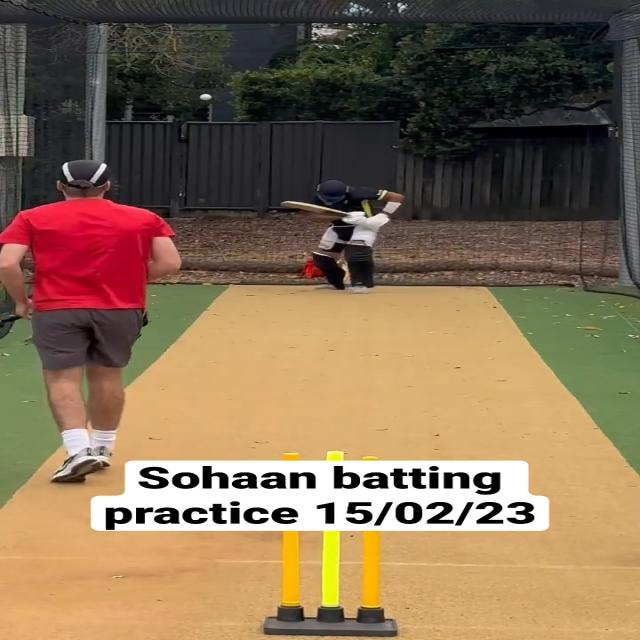ball: (199, 93, 213, 101)
stump: (270, 531, 398, 637)
